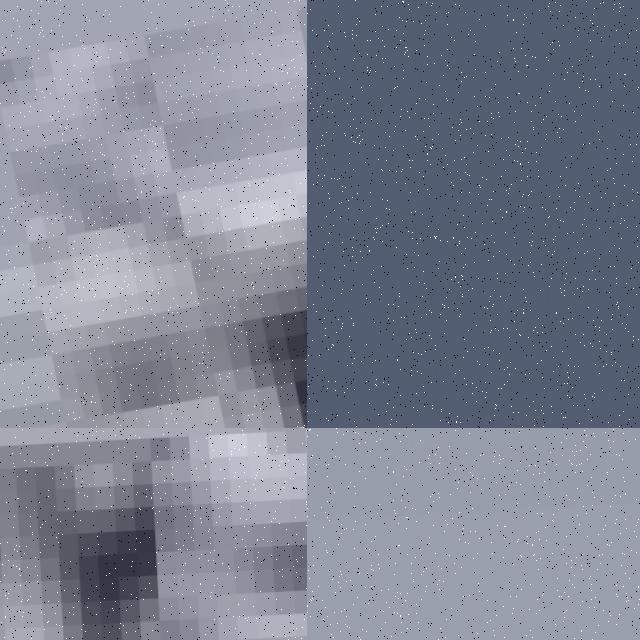drone: (0, 0, 307, 428)
